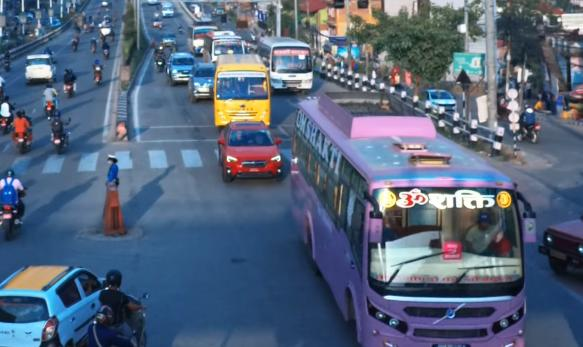bus: (289, 90, 533, 347), (259, 35, 317, 95)
car: (218, 118, 285, 185)
school_bus: (212, 52, 276, 130)
taxi: (0, 260, 112, 347)
